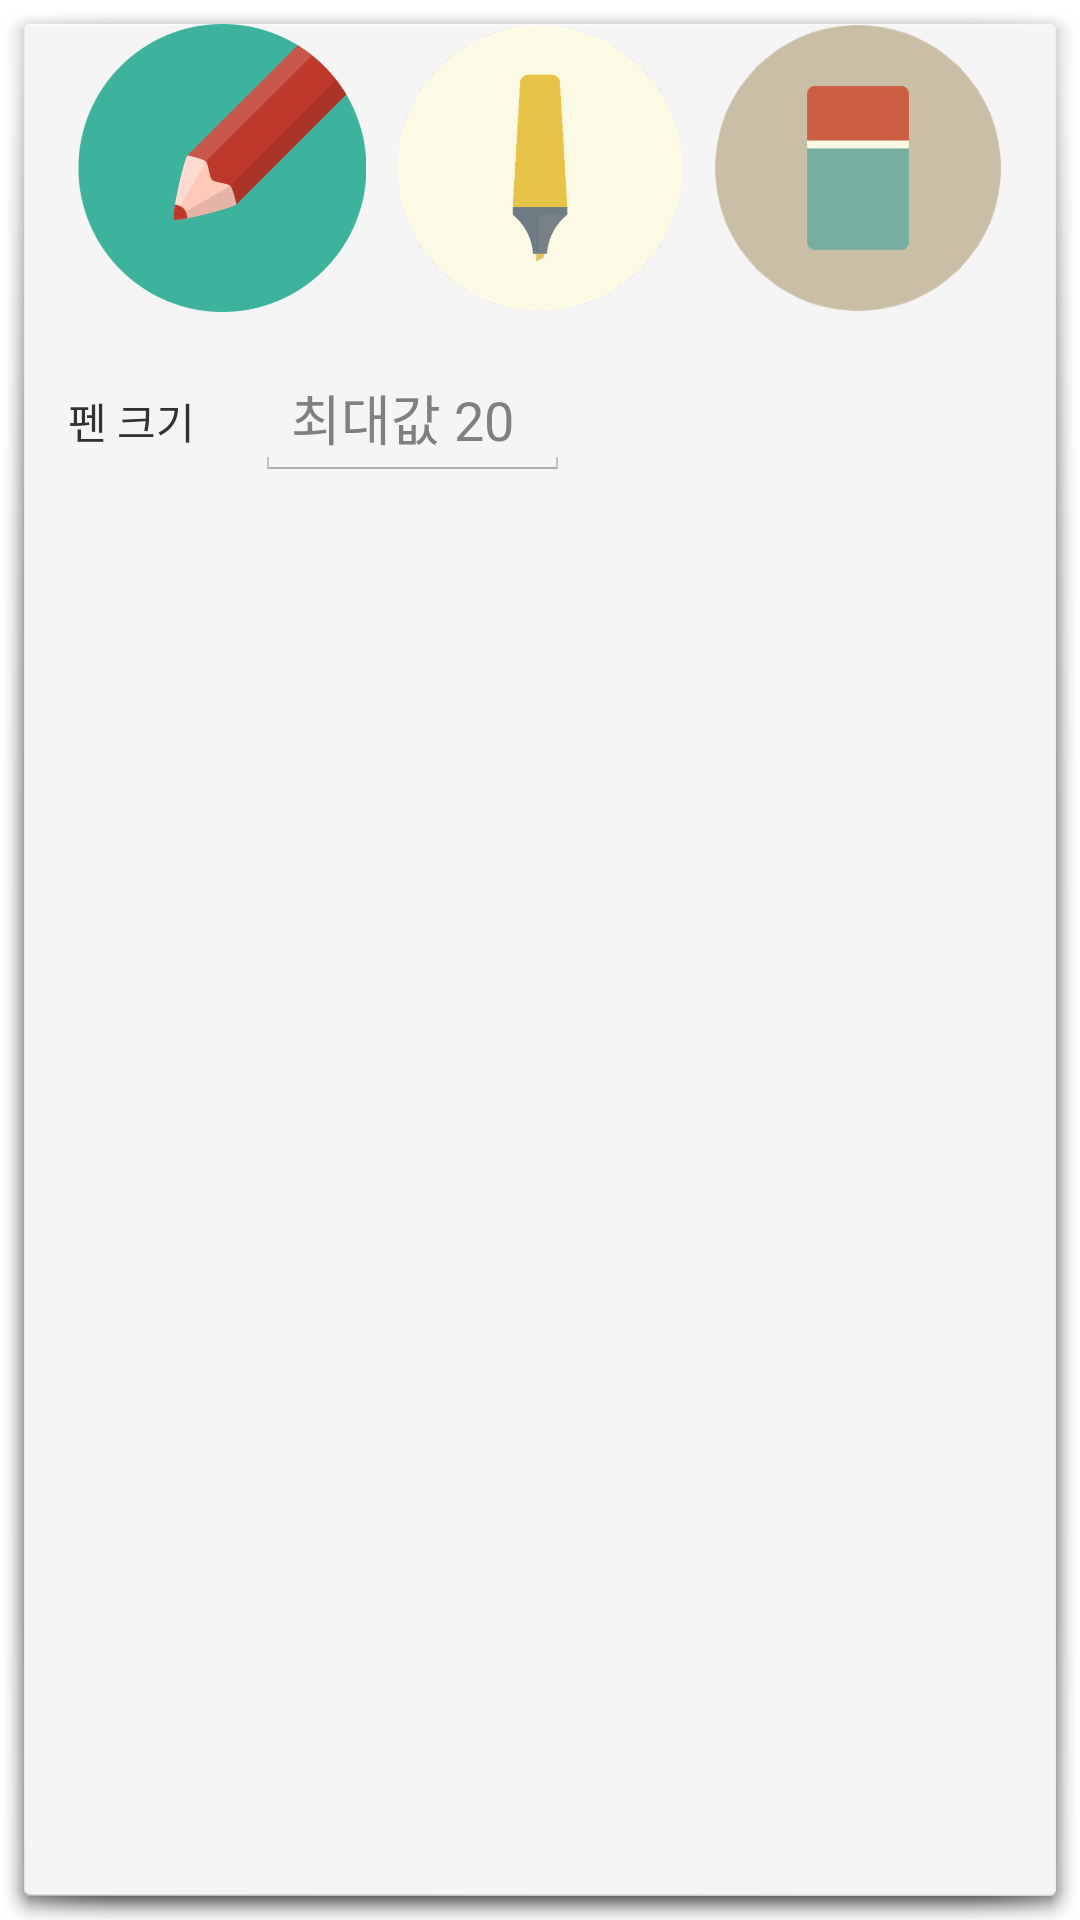

Locate icon controls on the screen. Image size 1080 × 1920, boxes as (x1, y1, x2, y2).
eraser: (690, 23, 978, 288)
highlighterpen: (372, 0, 660, 288)
pen: (64, 23, 342, 288)
